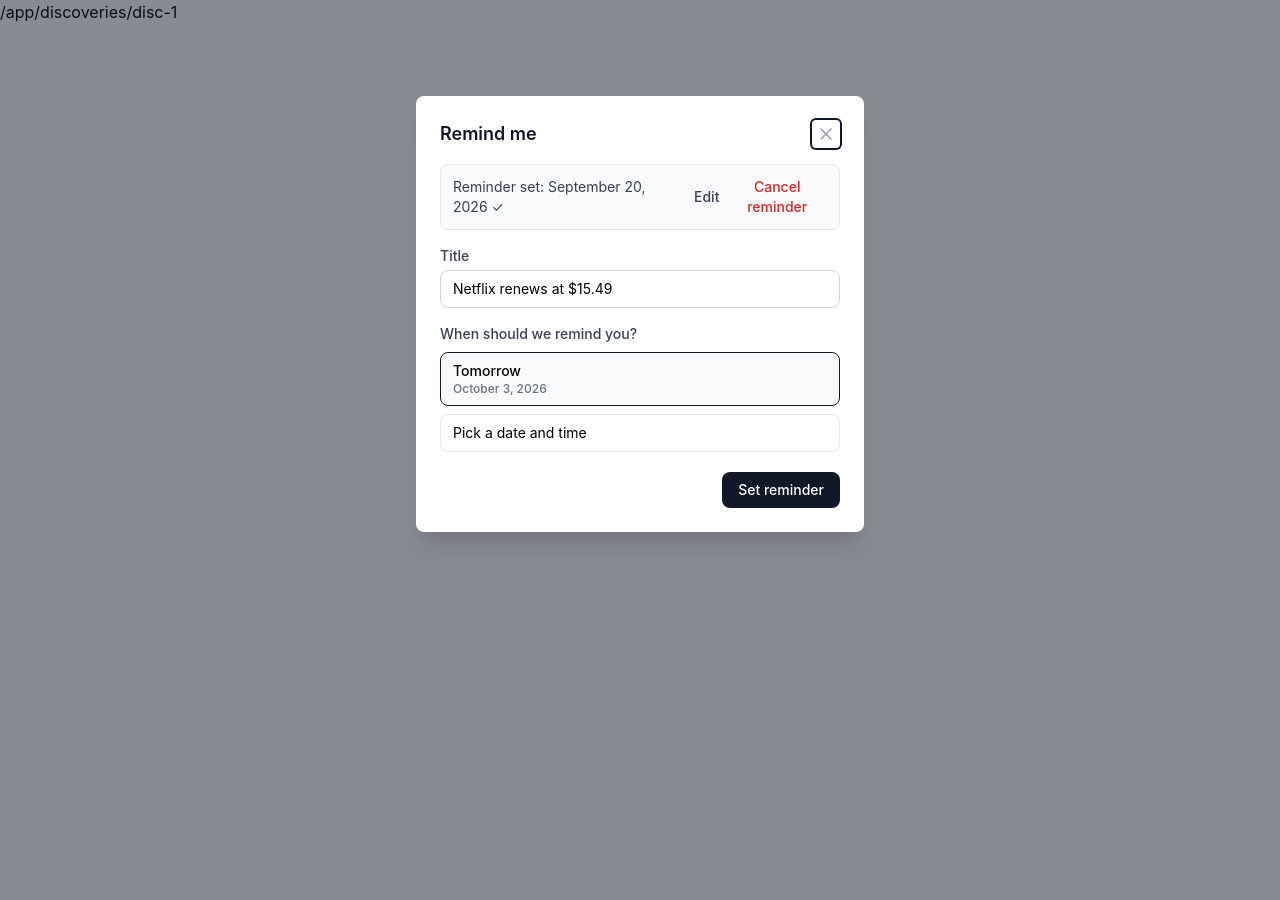
Scenario: ReminderModal — Pro user › with an existing reminder › reschedules through the edit flow (PATCH)
Expected: the element with test id "existing-reminder" is shown, left=440, top=164, right=840, bottom=230
Click the button "Edit" at (707, 197), box left=694, top=187, right=719, bottom=207
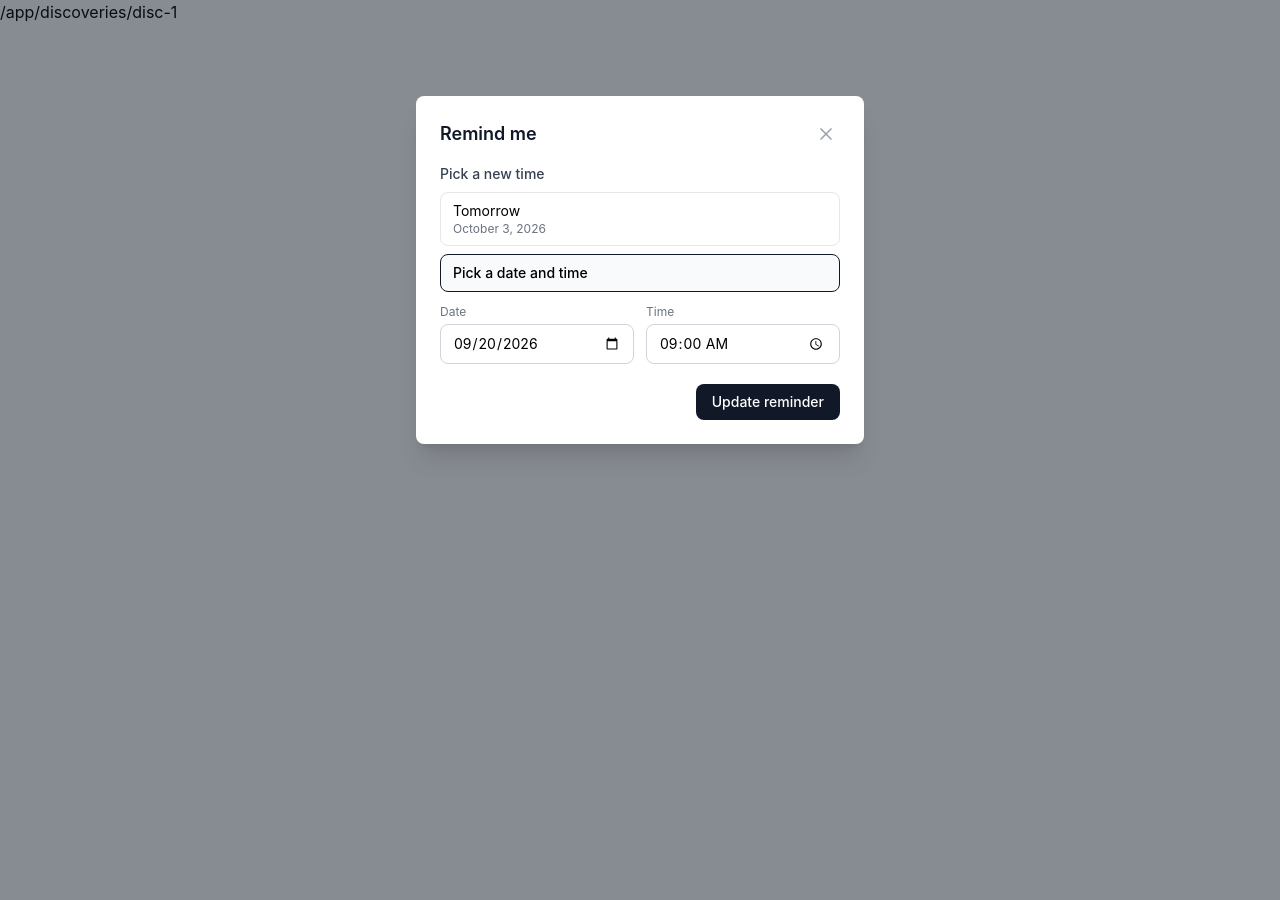
Now the date field labelled "Date" holds "2026-09-20"
Now the text "Pick a new time" is shown, box left=440, top=165, right=544, bottom=182
Type "2026-09-25" into the date field labelled "Date" at (537, 344), box left=440, top=324, right=634, bottom=364
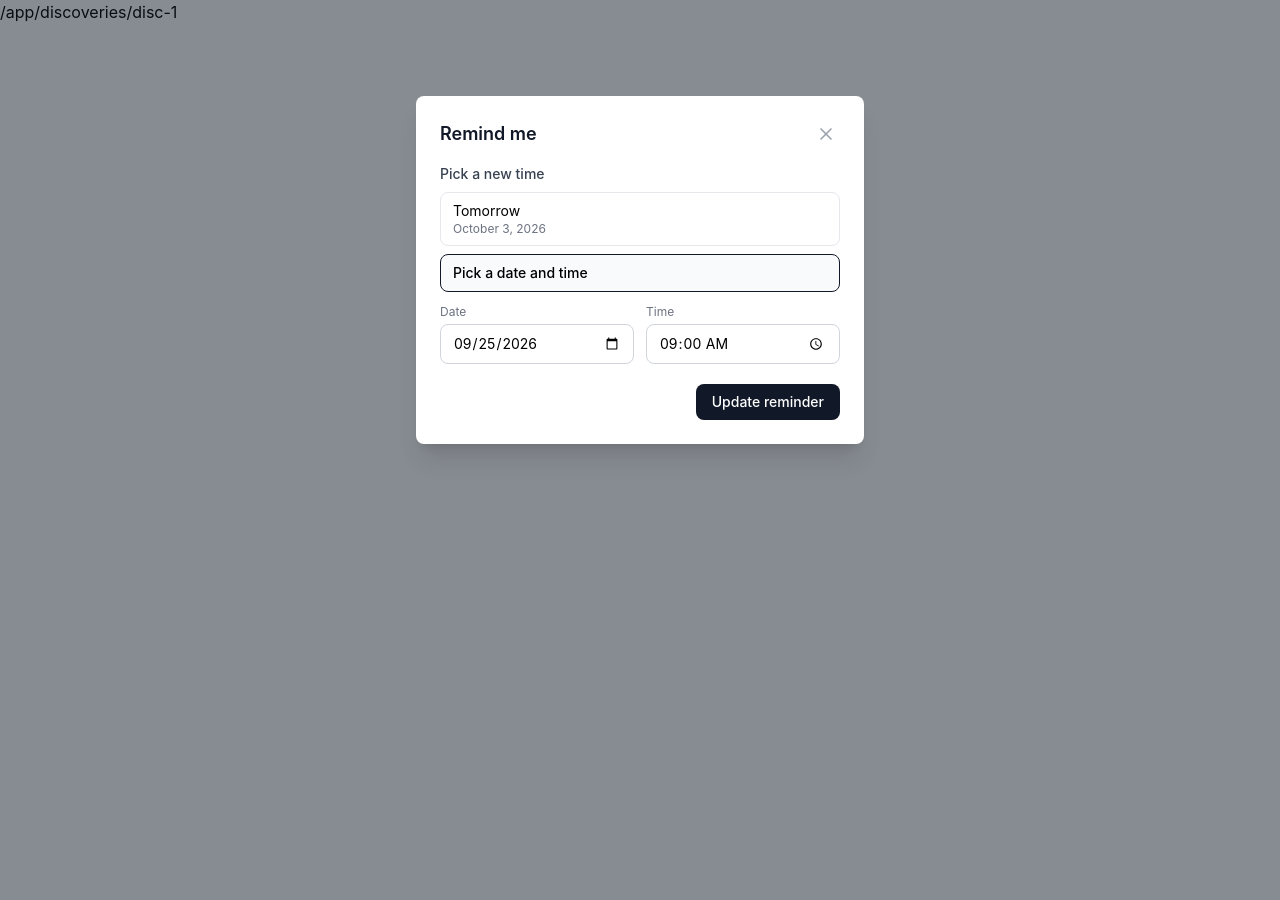
Click the button with test id "reminder-submit" at (768, 402), box left=696, top=384, right=840, bottom=420
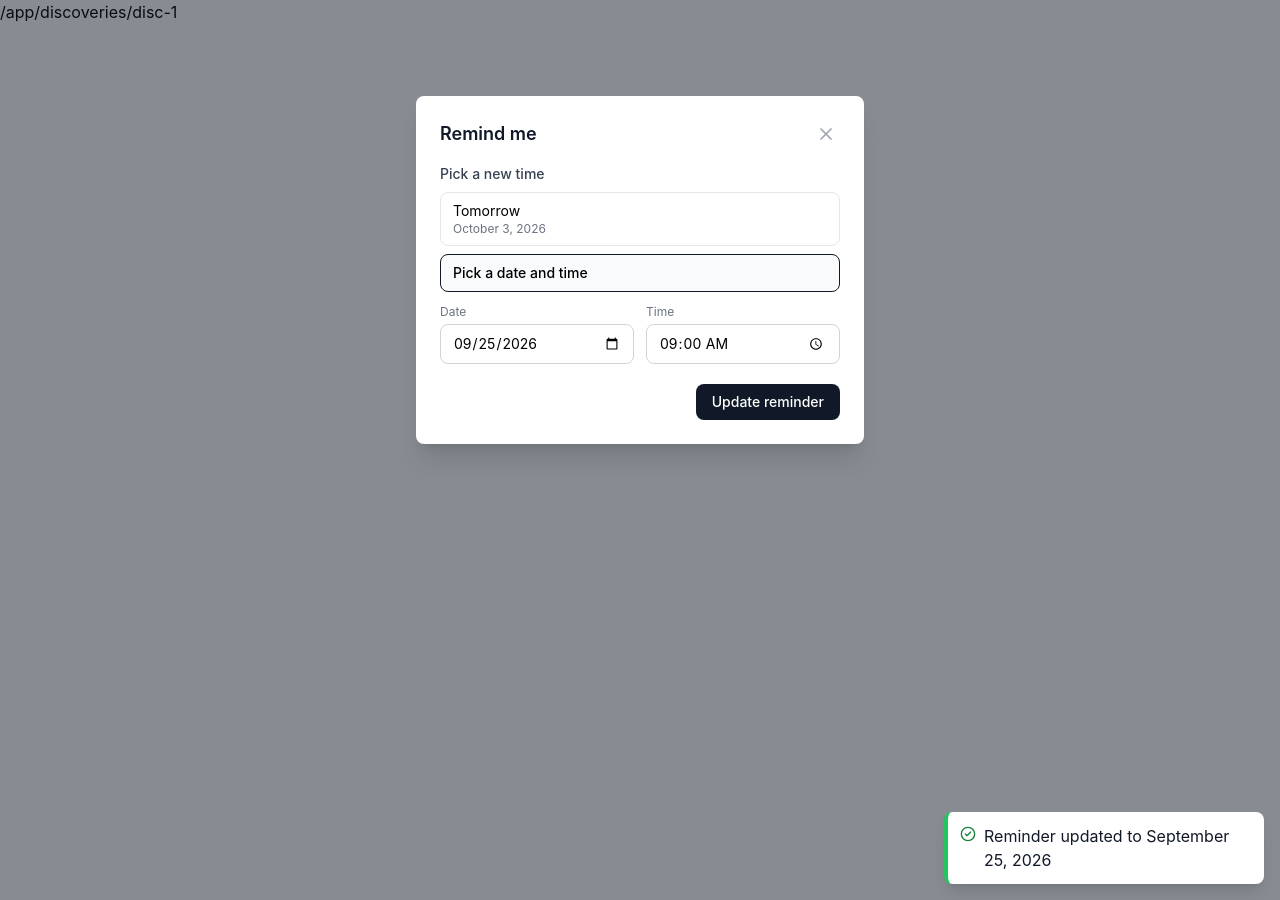
Now the text "Reminder updated to September 25, 2026" is shown, box left=984, top=824, right=1252, bottom=872
